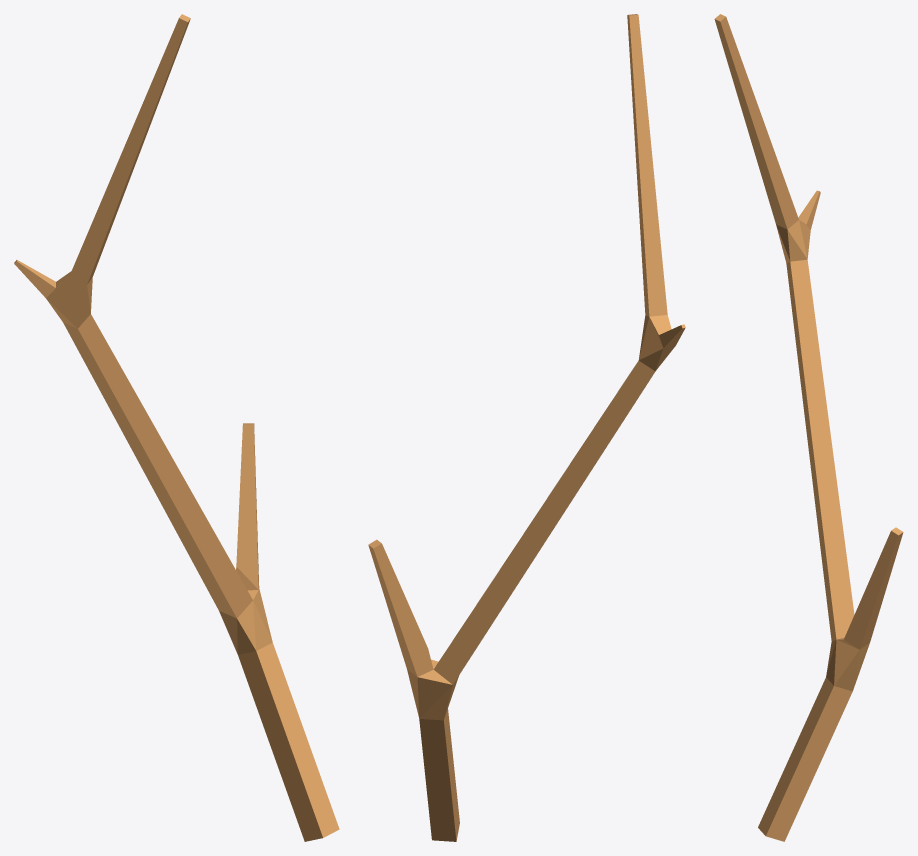
The model's file is stick_01_palm.fbx.
The picture shows the model from 3 angles, left to right: view 1: azimuth 30°, elevation 25°; view 2: azimuth 150°, elevation 25°; view 3: azimuth 270°, elevation 25°; orthographic projection. The views are drawn at different scales.
Visible parts, largest first — view 1: Cube; view 2: Cube; view 3: Cube.
Boxes of the visible parts, bbox=[...] form: Cube: bbox=[14, 14, 339, 841]; Cube: bbox=[368, 14, 685, 841]; Cube: bbox=[714, 14, 903, 841].
Bounding box in the file's own units: 18.43 × 53.01 × 12.06.
